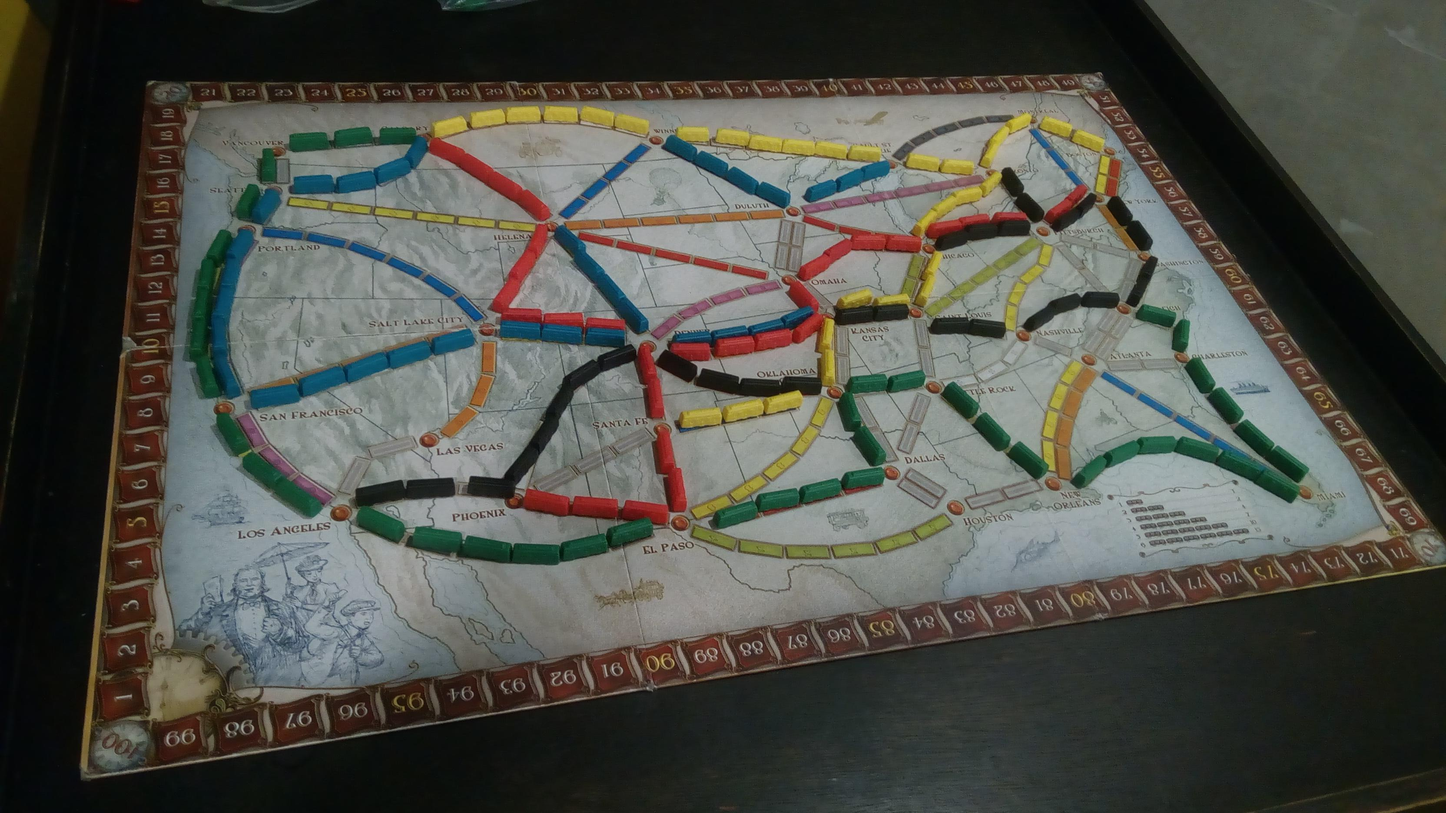corner_bl: (92, 718, 154, 771)
corner_br: (1408, 527, 1446, 567)
corner_tl: (148, 78, 192, 104)
corner_tr: (1078, 73, 1109, 93)
